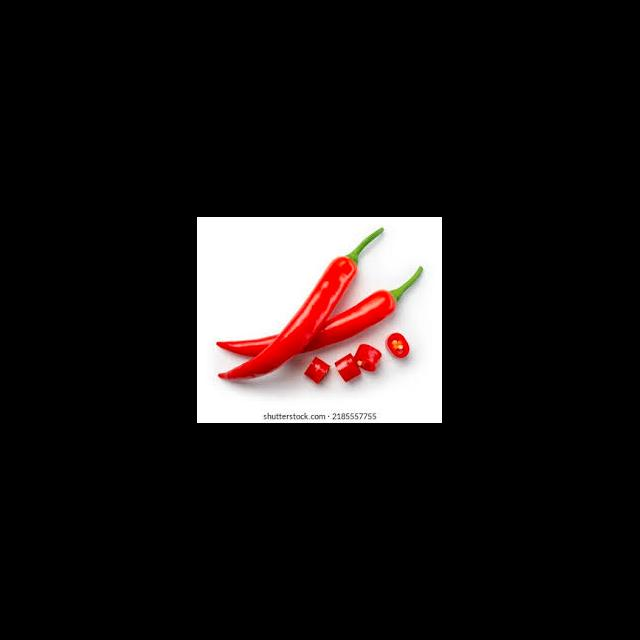chili_pepper: (218, 237, 370, 383), (298, 265, 425, 352), (354, 343, 382, 372), (304, 356, 331, 384), (335, 354, 361, 383), (385, 332, 410, 359)
